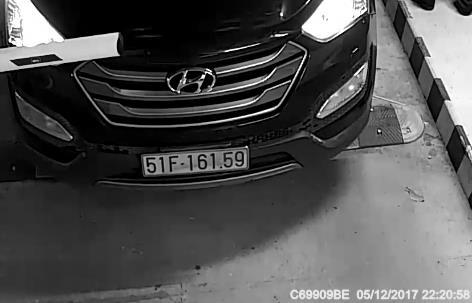License-plate: (135, 141, 262, 187)
